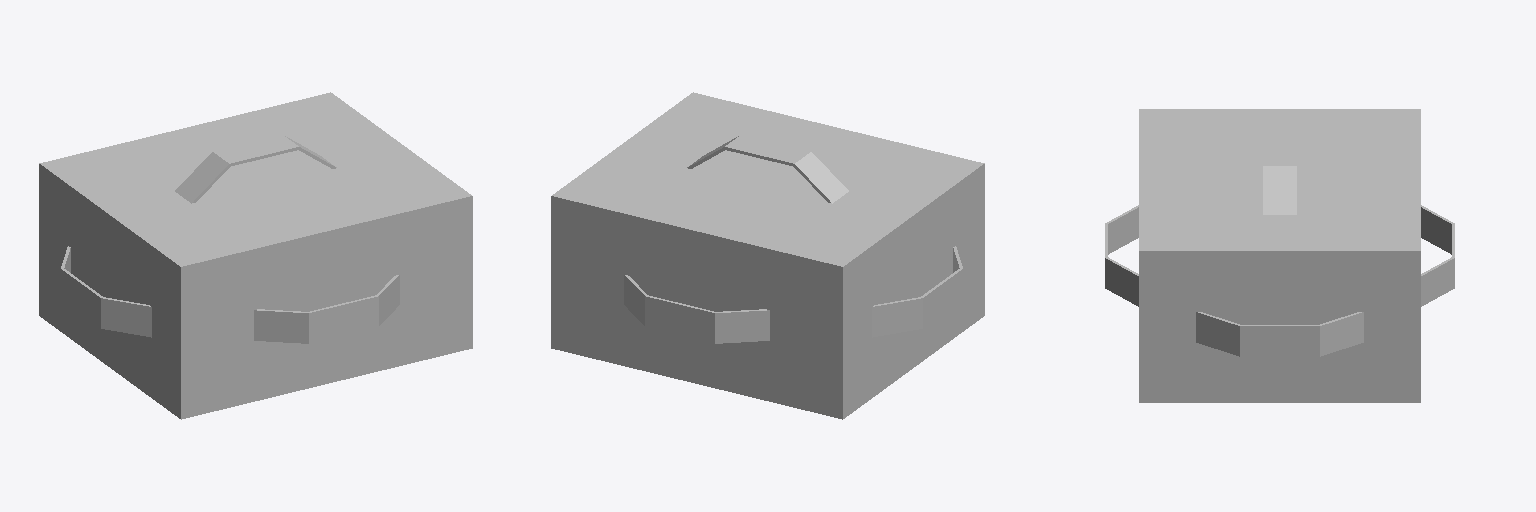
The model's file is cargo_bag_simple.obj.
3 renders of one model, left to right at view 1: azimuth 30°, elevation 25°; view 2: azimuth 150°, elevation 25°; view 3: azimuth 270°, elevation 25°, orthographic.
Visible parts, largest first — view 1: Body1; view 2: Body1; view 3: Body1.
Boxes of the visible parts, x1,y1,x2,y2 form: Body1: [39, 92, 472, 419]; Body1: [551, 92, 984, 419]; Body1: [1105, 109, 1454, 402].
Bounding box in the file's own units: 0.6 × 0.35 × 0.52.